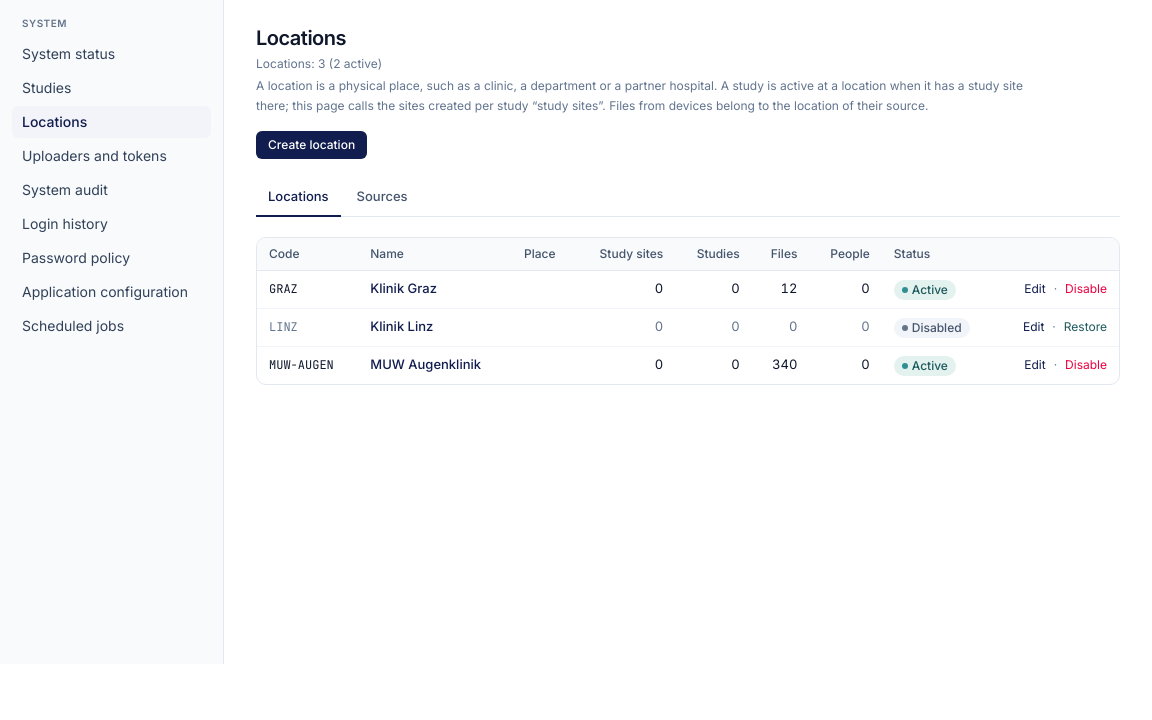
System → Standorte → Quellen › the sources table › names a kind it does not know as the server named it
What coordinates should you click on to do the following:
click the tab "Sources"
I would click on:
 (382, 198)
Its box is [345,179,420,216].
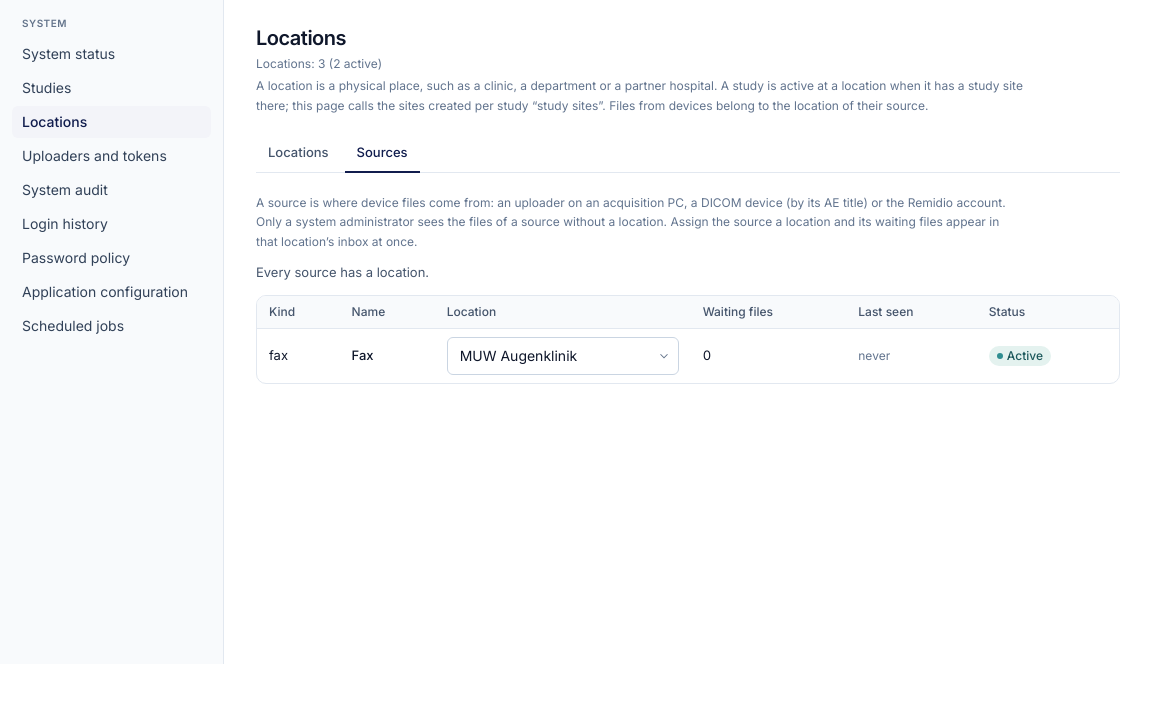
Check: the cell "fax" is shown, box [257,328,340,382]
